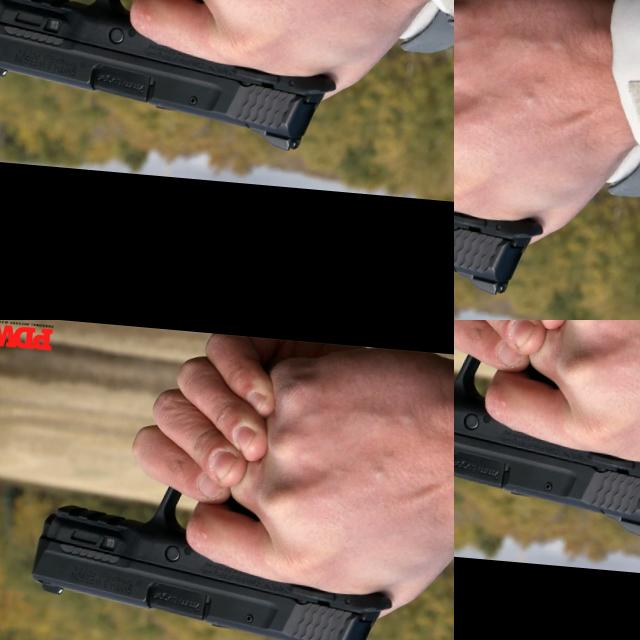handgun: (222, 0, 454, 172), (454, 339, 640, 542), (454, 135, 640, 320), (308, 524, 454, 640)
